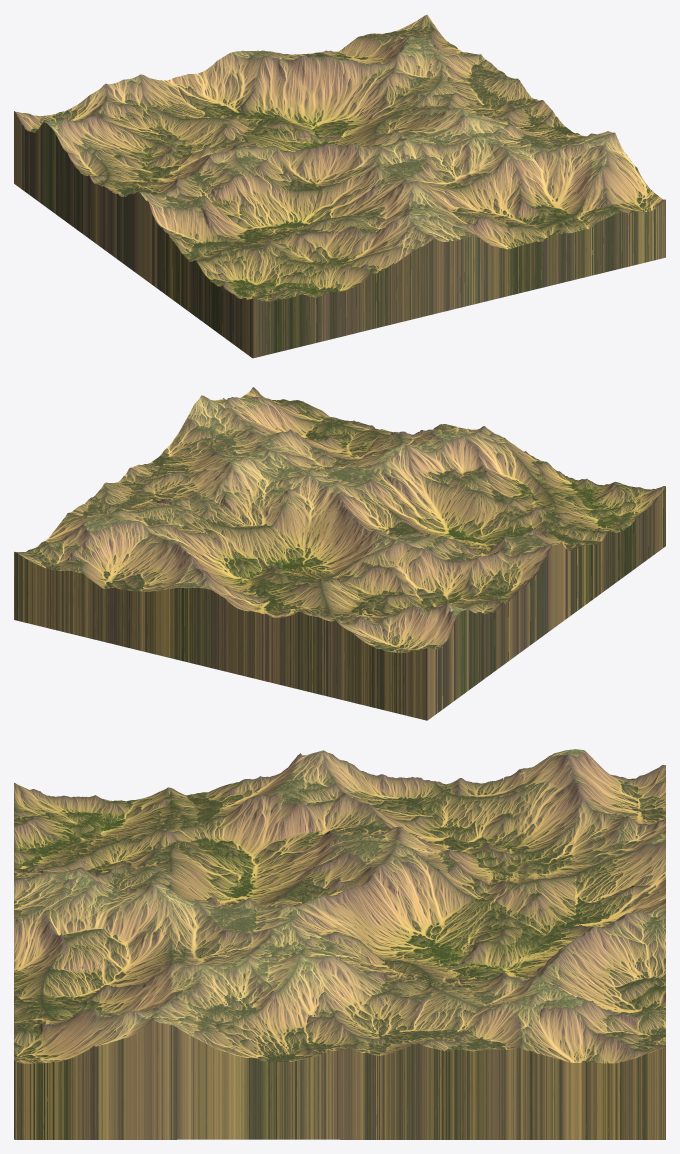
3 renders of one model, top to bottom at view 1: azimuth 30°, elevation 25°; view 2: azimuth 150°, elevation 25°; view 3: azimuth 270°, elevation 25°, orthographic. The views are drawn at different scales.
Visible parts, largest first — view 1: TerrainMesh, TerrainMesh013, TerrainMesh005, TerrainMesh009, TerrainMesh004, TerrainMesh002, TerrainMesh003, TerrainMesh012, TerrainMesh006, TerrainMesh008, TerrainMesh010, TerrainMesh015 (+4 smaller); view 2: TerrainMesh004, TerrainMesh016, TerrainMesh012, TerrainMesh008, TerrainMesh003, TerrainMesh011, TerrainMesh, TerrainMesh002, TerrainMesh005, TerrainMesh006, TerrainMesh010, TerrainMesh007 (+4 smaller); view 3: TerrainMesh014, TerrainMesh015, TerrainMesh016, TerrainMesh013, TerrainMesh009, TerrainMesh007, TerrainMesh002, TerrainMesh004, TerrainMesh008, TerrainMesh003, TerrainMesh, TerrainMesh010 (+4 smaller).
Part boxes in pixels (<box>): TerrainMesh: <box>193,230,355,358</box>; TerrainMesh013: <box>503,131,665,282</box>; TerrainMesh005: <box>298,182,459,332</box>; TerrainMesh009: <box>401,160,562,307</box>; TerrainMesh004: <box>14,82,174,226</box>; TerrainMesh002: <box>133,175,293,314</box>; TerrainMesh003: <box>73,147,235,270</box>; TerrainMesh012: <box>221,50,382,129</box>; TerrainMesh006: <box>237,145,397,232</box>; TerrainMesh008: <box>117,59,279,148</box>; TerrainMesh010: <box>344,113,502,187</box>; TerrainMesh015: <box>384,60,546,116</box>; TerrainMesh004: <box>324,596,486,720</box>; TerrainMesh016: <box>14,510,176,644</box>; TerrainMesh012: <box>117,530,279,670</box>; TerrainMesh008: <box>220,574,383,695</box>; TerrainMesh003: <box>384,538,546,676</box>; TerrainMesh011: <box>177,476,339,579</box>; TerrainMesh: <box>503,474,665,589</box>; TerrainMesh002: <box>443,506,606,632</box>; TerrainMesh005: <box>399,426,562,505</box>; TerrainMesh006: <box>340,460,502,543</box>; TerrainMesh010: <box>237,436,399,512</box>; TerrainMesh007: <box>282,507,442,598</box>; TerrainMesh014: <box>177,954,339,1139</box>; TerrainMesh015: <box>340,959,502,1139</box>; TerrainMesh016: <box>503,968,665,1139</box>; TerrainMesh013: <box>14,963,176,1139</box>; TerrainMesh009: <box>14,883,176,1003</box>; TerrainMesh007: <box>340,829,502,944</box>; TerrainMesh002: <box>177,750,339,874</box>; TerrainMesh004: <box>503,749,665,861</box>; TerrainMesh008: <box>503,829,665,937</box>; TerrainMesh003: <box>340,760,502,860</box>; TerrainMesh: <box>14,782,176,869</box>; TerrainMesh010: <box>177,893,339,965</box>.
Size of the model in its own units: 400 by 82.03 by 400.
